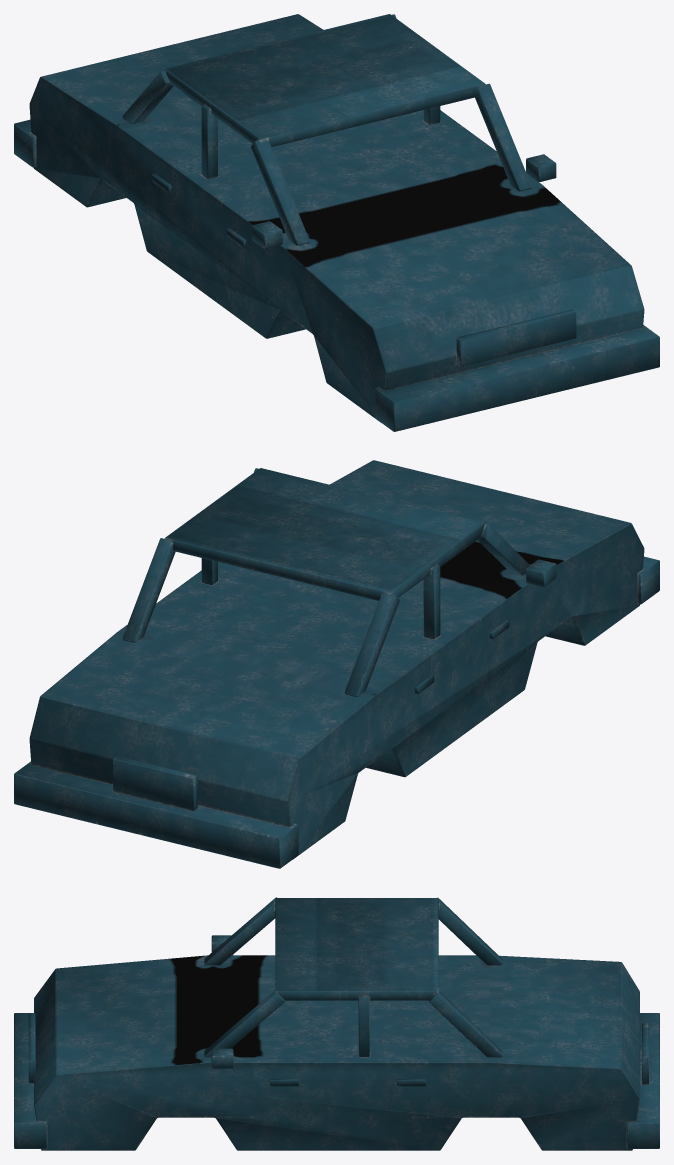
Rendered from Patrulla_Carroceria.fbx.
3 renders of one model, top to bottom at view 1: azimuth 30°, elevation 25°; view 2: azimuth 150°, elevation 25°; view 3: azimuth 270°, elevation 25°, orthographic. The views are drawn at different scales.
Visible parts, largest first — view 1: Patrulla_Carroceria; view 2: Patrulla_Carroceria; view 3: Patrulla_Carroceria.
Part boxes in pixels (<box>): Patrulla_Carroceria: <box>14,14,659,431</box>; Patrulla_Carroceria: <box>14,460,659,868</box>; Patrulla_Carroceria: <box>14,897,659,1150</box>.
Size of the model in its own units: 7.9 by 4.65 by 17.8.
